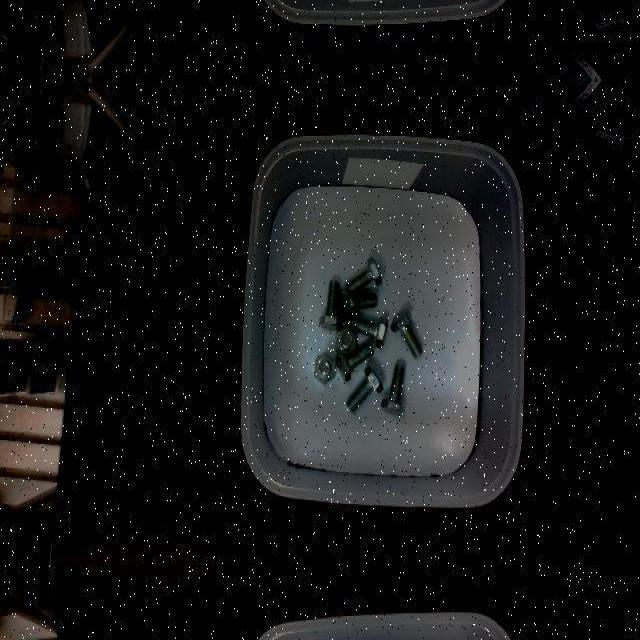screw: (345, 364, 383, 412), (390, 309, 422, 359), (337, 342, 375, 380), (345, 256, 382, 294), (348, 314, 386, 348), (319, 281, 343, 331), (381, 364, 405, 414), (338, 287, 376, 317), (314, 351, 336, 385), (335, 327, 355, 357)
